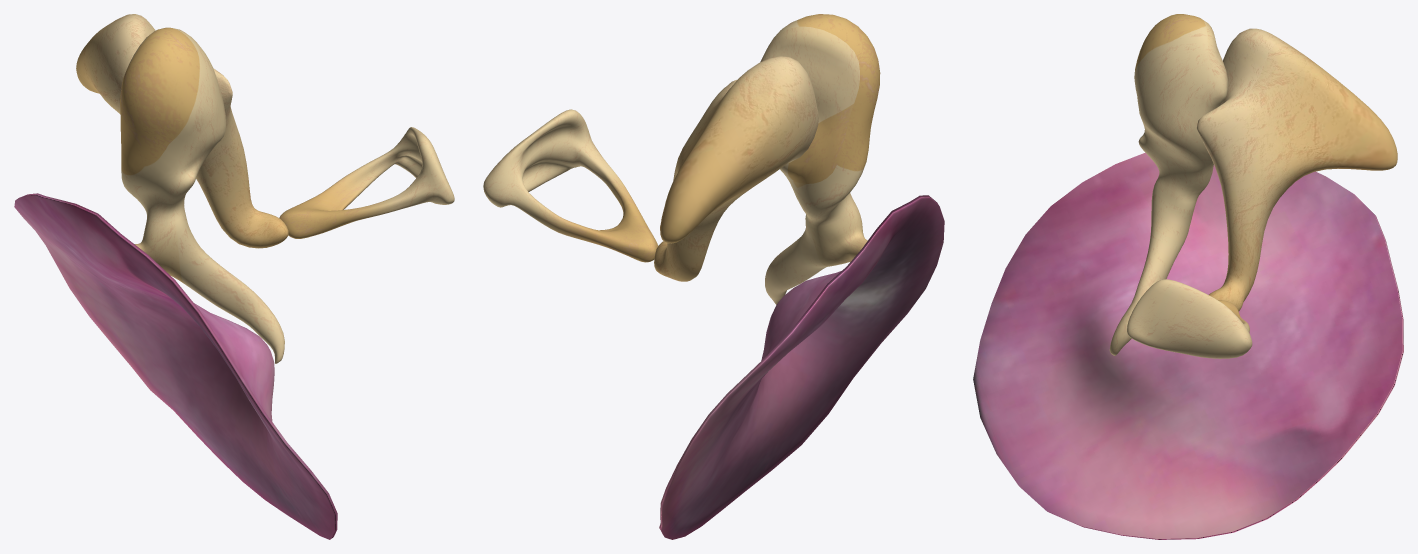
File: telinga-tengah-2.fbx
3 views of the same model, side by side, from view 1: azimuth 30°, elevation 25°; view 2: azimuth 150°, elevation 25°; view 3: azimuth 270°, elevation 25° (orthographic). The views are drawn at different scales.
Visible parts, largest first — view 1: Object_6, Object_7, Object_4, Object_3; view 2: Object_6, Object_7, Object_4, Object_3; view 3: Object_6, Object_4, Object_7, Object_3.
Boxes of the visible parts, box(x1,y1,x2,y2) form: Object_6: box(14, 193, 337, 539); Object_7: box(120, 27, 284, 363); Object_4: box(76, 14, 288, 248); Object_3: box(279, 127, 454, 238); Object_6: box(659, 195, 944, 539); Object_7: box(760, 14, 880, 304); Object_4: box(654, 56, 819, 281); Object_3: box(483, 109, 658, 262); Object_6: box(973, 152, 1403, 539); Object_4: box(1197, 28, 1397, 311); Object_7: box(1109, 14, 1227, 355); Object_3: box(1127, 279, 1252, 358).
Bounding box in the file's own units: 416 × 547 × 452.
Materials: 4 (4 with a texture image).
